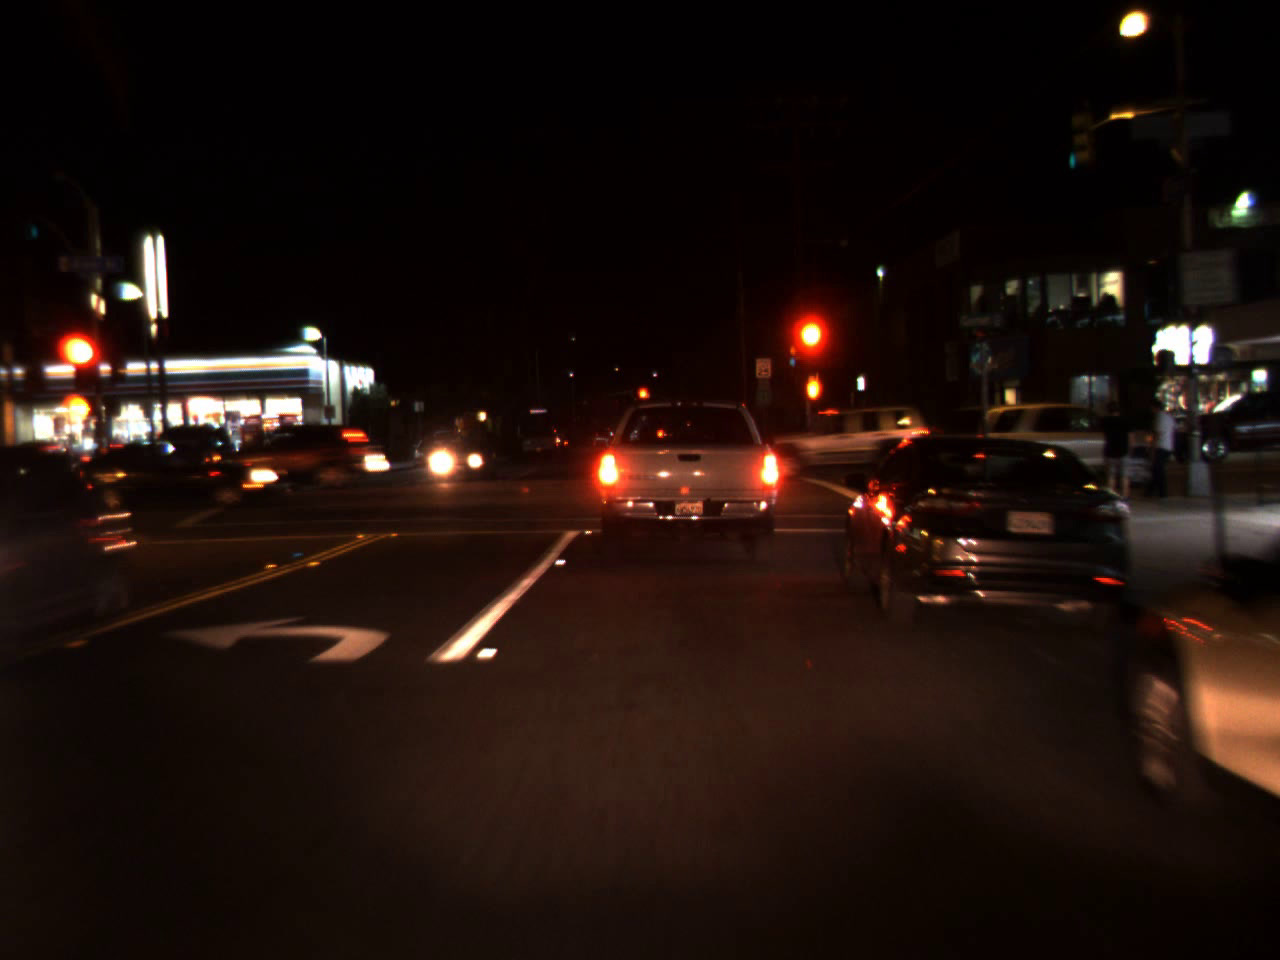stop: (57, 331, 106, 403), (793, 318, 824, 377), (636, 386, 649, 410)
